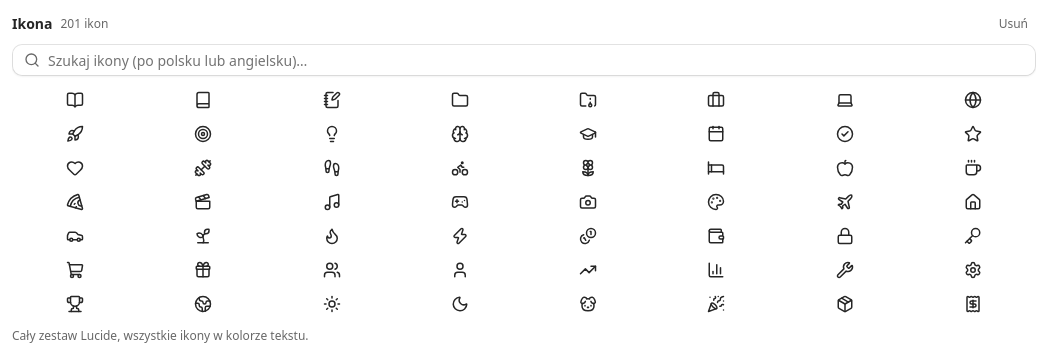
Test: IconPicker › brak trafień → „Brak wyników”
In the field labelled "Szukaj ikony": (536, 60) [48,45,1024,75], type "xyzxyz"
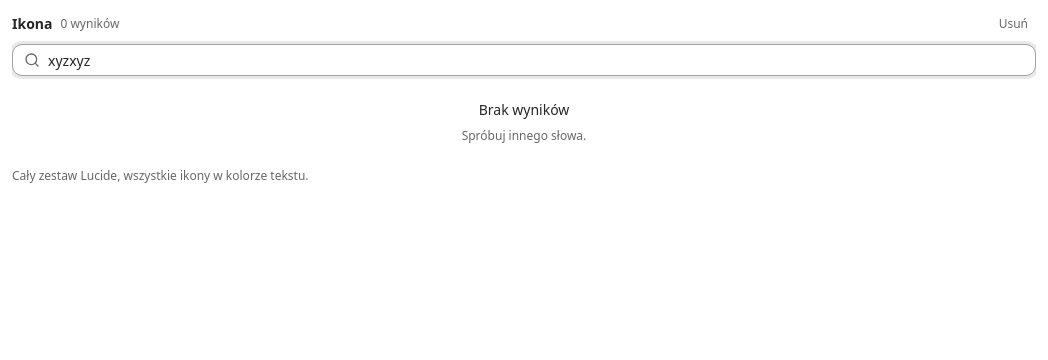
expect the text "Brak wyników" is shown: met, box [479,100,569,120]
